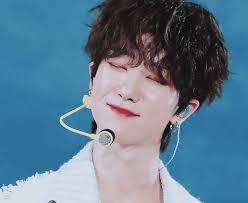earphone: (175, 100, 190, 119)
